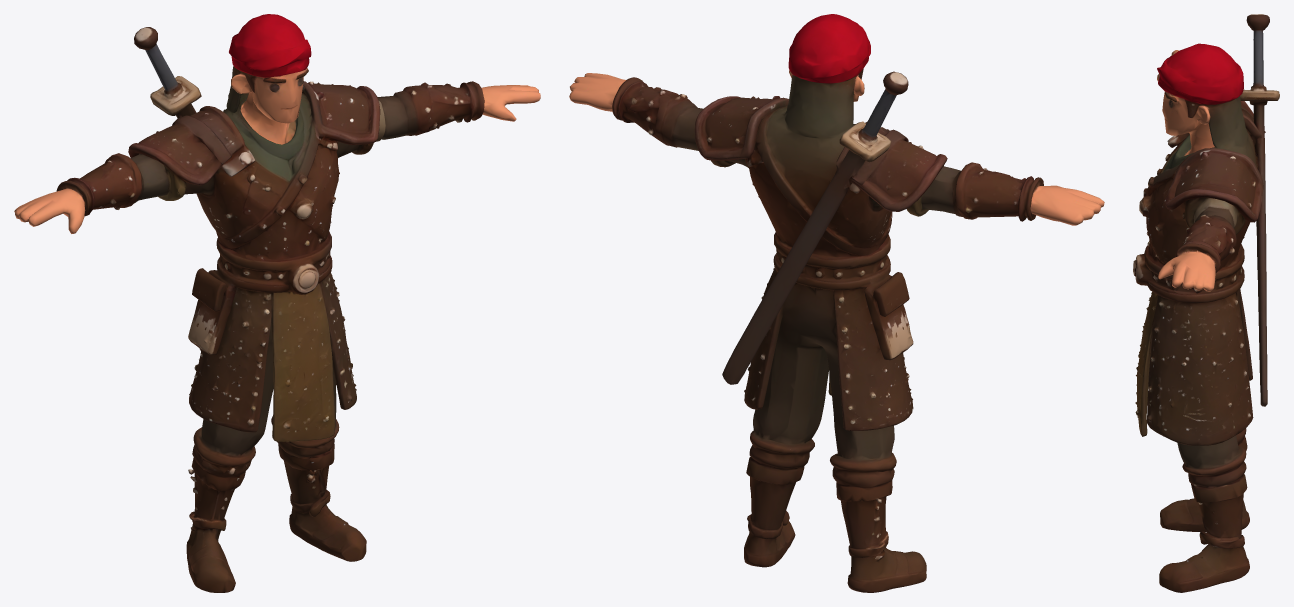
The model's file is hero_hirsiz.glb.
3 renders of one model, left to right at view 1: azimuth 30°, elevation 25°; view 2: azimuth 150°, elevation 25°; view 3: azimuth 270°, elevation 25°, orthographic. The views are drawn at different scales.
Visible parts, largest first — view 1: tripo_node_836dd778-606f-43d2-a37c-8a6996dc4b10; view 2: tripo_node_836dd778-606f-43d2-a37c-8a6996dc4b10; view 3: tripo_node_836dd778-606f-43d2-a37c-8a6996dc4b10.
Boxes of the visible parts, x1=… form: tripo_node_836dd778-606f-43d2-a37c-8a6996dc4b10: x1=14, y1=14, x2=540, y2=592; tripo_node_836dd778-606f-43d2-a37c-8a6996dc4b10: x1=569, y1=14, x2=1104, y2=592; tripo_node_836dd778-606f-43d2-a37c-8a6996dc4b10: x1=1133, y1=14, x2=1279, y2=592.
Bounding box in the file's own units: 0.9962 × 1 × 0.2616.
Materials: 1 (1 with a texture image).
